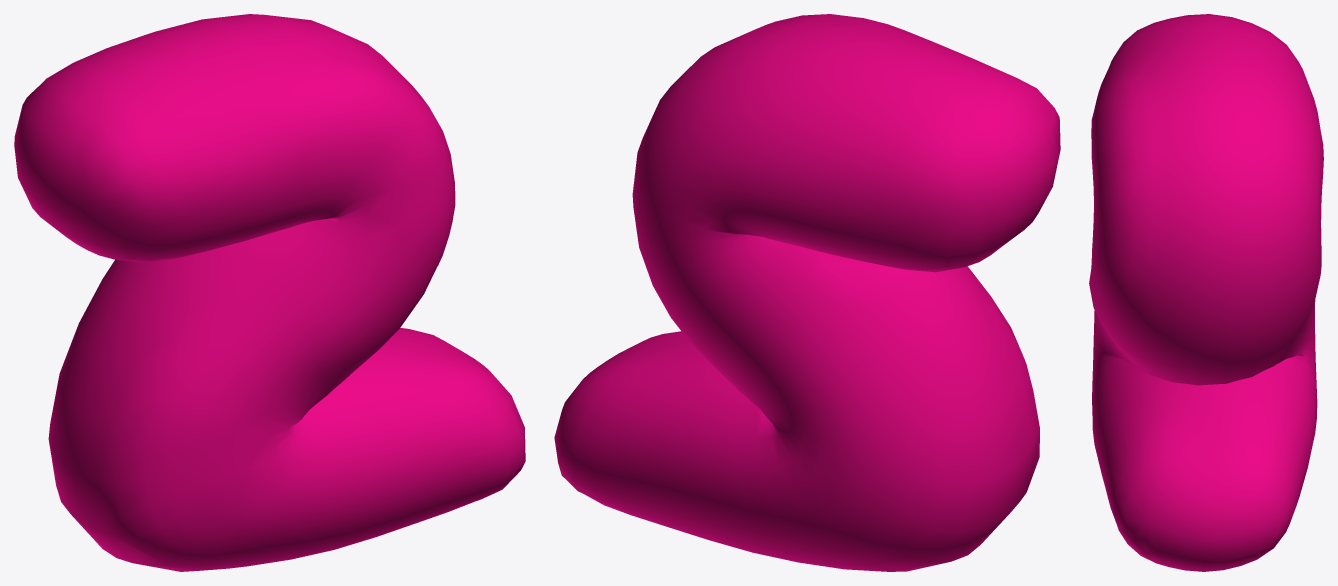
3 renders of one model, left to right at view 1: azimuth 30°, elevation 25°; view 2: azimuth 150°, elevation 25°; view 3: azimuth 270°, elevation 25°, orthographic. The views are drawn at different scales.
Parts seen in each view (by area): view 1: Object_54; view 2: Object_54; view 3: Object_54.
Part boxes in pixels (left/top/right/bottom): Object_54: left=14, top=14, right=525, bottom=571; Object_54: left=554, top=14, right=1060, bottom=571; Object_54: left=1089, top=14, right=1323, bottom=571.
Size of the model in its own units: 85.85 by 90.79 by 44.35.
